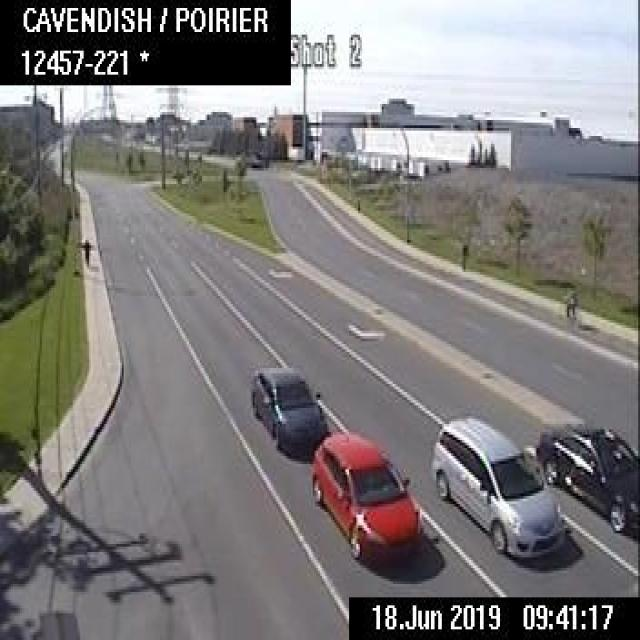cyclist: (552, 286, 582, 328)
pedestrian: (80, 234, 91, 266), (458, 235, 467, 272)
vehicle: (432, 413, 566, 555), (310, 431, 420, 557), (533, 413, 638, 535), (250, 366, 326, 454)
